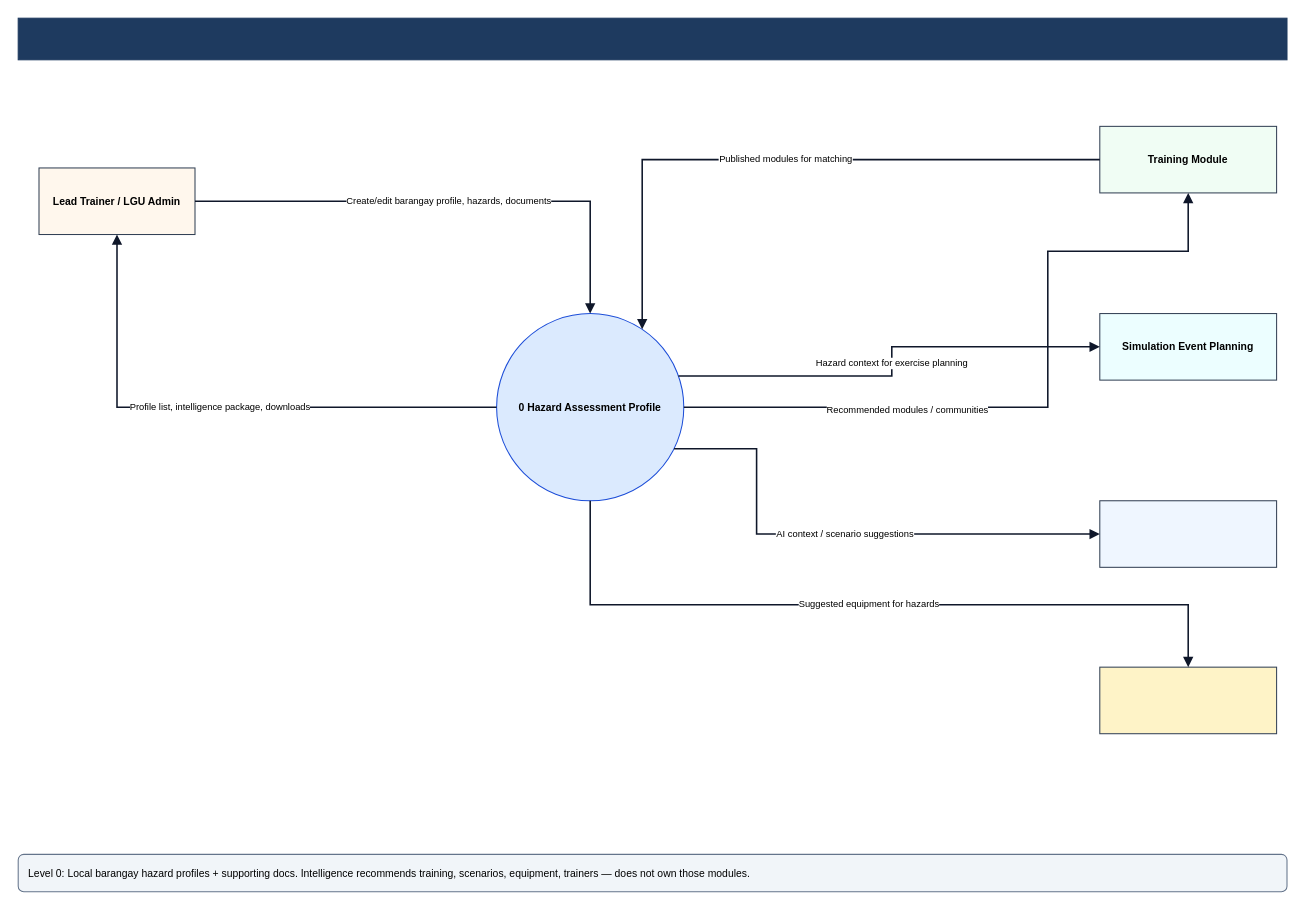
This 1305x910 diagram has some shape labels left out. Each missing label, with the centre of its shape:
"AI Scenario Training" goes at (x=1188, y=533).
"DFD Level 0 — Hazard Assessment Profile (Context)" goes at (x=652, y=38).
"Resource & Equipment Inventory" goes at (x=1188, y=700).
